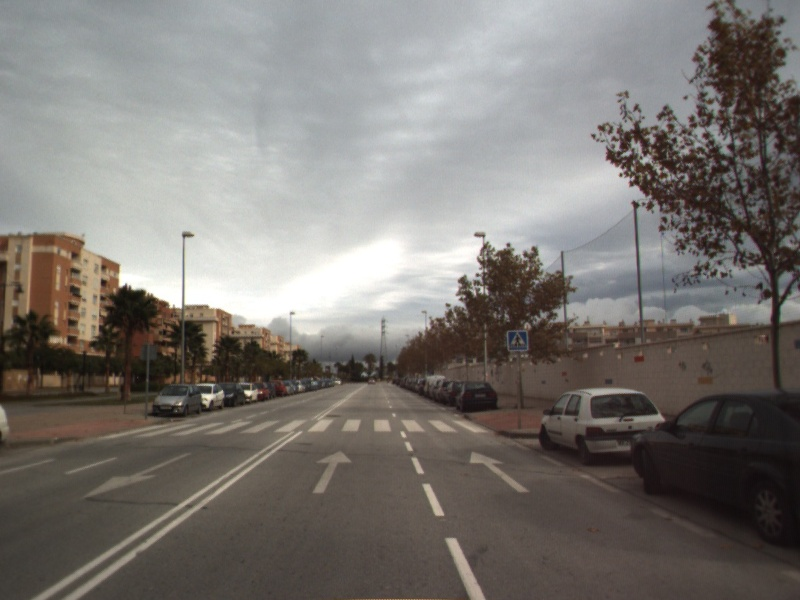STRAIGHT: (468, 449, 532, 494), (310, 448, 354, 495)
